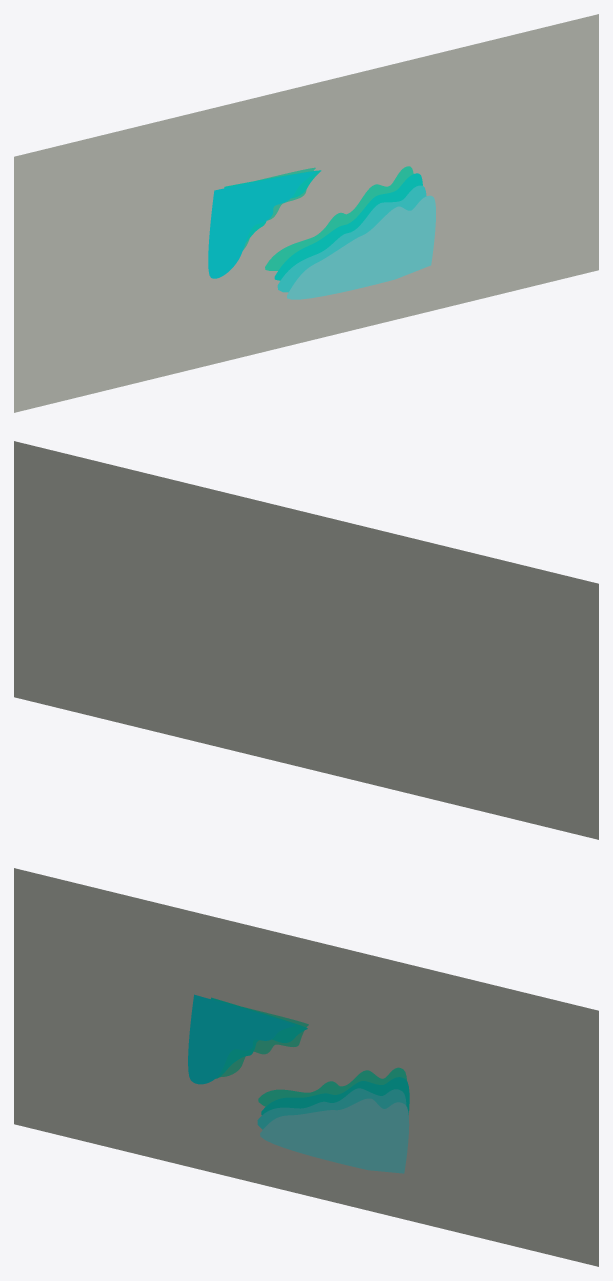
The model's file is WebsiteBackground.glb.
3 views of the same model, one above another, from view 1: azimuth 30°, elevation 25°; view 2: azimuth 150°, elevation 25°; view 3: azimuth 330°, elevation 25° (orthographic).
Parts seen in each view (by area): view 1: Curve, Curve.005, Curve.002, Curve.004, Curve.003, Right_1; view 2: Curve; view 3: Curve, Curve.005, Curve.002, Curve.004, Curve.003, Right_1, Curve.001, Left_1.
Part boxes in pixels (<box>): Curve: <box>14,14,598,412</box>; Curve.005: <box>287,195,435,299</box>; Curve.002: <box>208,171,315,278</box>; Curve.004: <box>277,185,426,292</box>; Curve.003: <box>274,173,422,280</box>; Right_1: <box>265,166,413,270</box>; Curve: <box>14,441,598,839</box>; Curve: <box>14,868,598,1266</box>; Curve.005: <box>260,1098,409,1173</box>; Curve.002: <box>188,994,295,1084</box>; Curve.004: <box>257,1088,406,1129</box>; Curve.003: <box>261,1077,409,1114</box>; Right_1: <box>258,1067,406,1106</box>; Curve.001: <box>211,997,307,1078</box>; Left_1: <box>220,1007,308,1077</box>.
Bounding box in the file's own units: 25.11 × 10.51 × 1.
